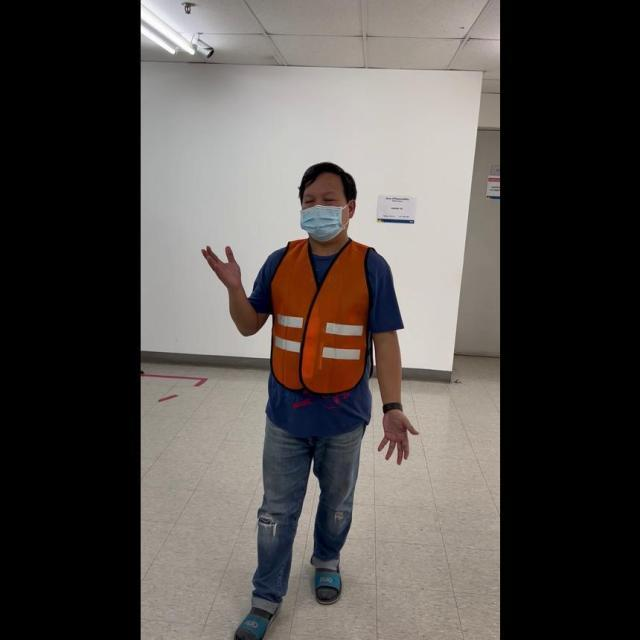bare_hand: (374, 405, 416, 465), (199, 240, 243, 289)
